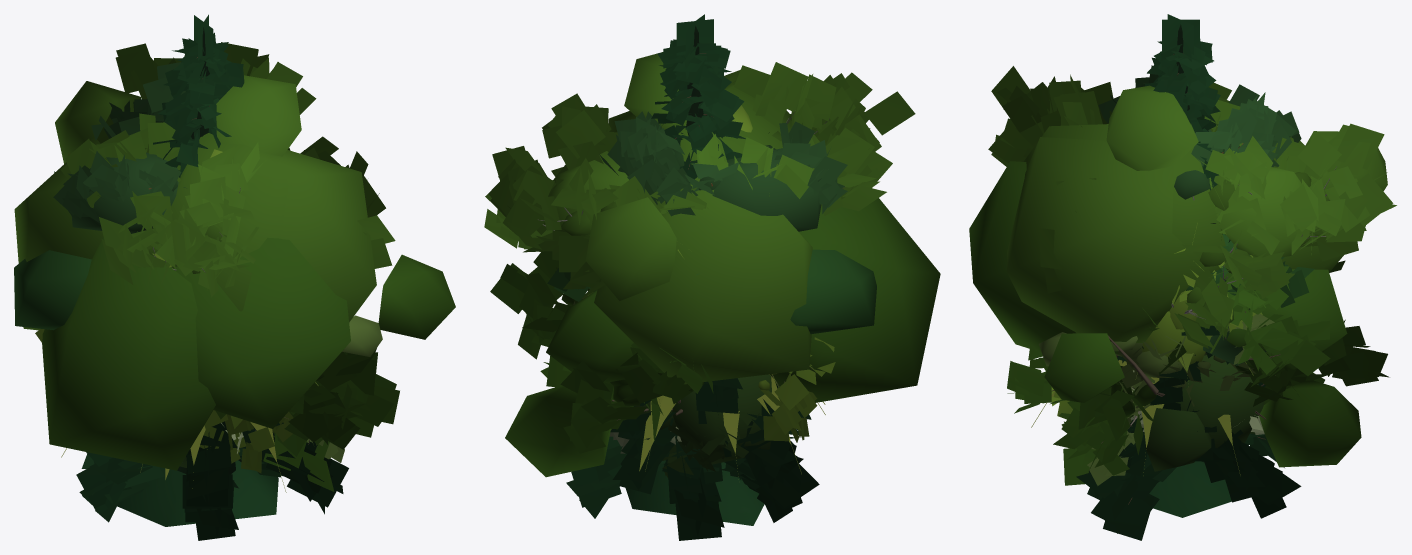
File: trees.glb
The picture shows the model from 3 angles, left to right: view 1: azimuth 30°, elevation 25°; view 2: azimuth 150°, elevation 25°; view 3: azimuth 270°, elevation 25°; orthographic projection. The views are drawn at different scales.
Parts seen in each view (by area): view 1: eiche_lod, buche_lod, buche, fichte, eiche, kiefer, pinie_lod, fichte_lod, kiefer_lod, birke, aleppo_lod; view 2: buche_lod, buche, eiche_lod, fichte, eiche, kiefer, pinie_lod, kiefer_lod, steineiche_lod, birke, fichte_lod, steineiche (+2 smaller); view 3: buche_lod, buche, eiche_lod, eiche, fichte, steineiche_lod, kiefer, fichte_lod, aleppo, birke_lod, aleppo_lod, kiefer_lod (+3 smaller).
Part boxes in pixels (x1,y1,x2,y2): eiche_lod: (42, 237, 455, 470); buche_lod: (14, 75, 376, 330); buche: (61, 42, 395, 297); fichte: (76, 14, 348, 540); eiche: (214, 348, 399, 491); kiefer: (53, 62, 186, 222); pinie_lod: (14, 250, 91, 330); fichte_lod: (117, 139, 278, 526); kiefer_lod: (71, 152, 178, 233); birke: (35, 153, 293, 473); aleppo_lod: (342, 315, 382, 356); buche_lod: (550, 52, 812, 384); buche: (484, 62, 915, 298); eiche_lod: (505, 113, 940, 477); fichte: (566, 14, 819, 540); eiche: (490, 251, 713, 453); kiefer: (599, 111, 847, 216); pinie_lod: (589, 249, 876, 334); kiefer_lod: (712, 148, 821, 231); steineiche_lod: (634, 374, 771, 464); birke: (587, 249, 835, 442); fichte_lod: (625, 158, 764, 525); steineiche: (662, 410, 759, 478); buche_lod: (1006, 85, 1387, 342); buche: (988, 66, 1396, 353); eiche_lod: (969, 161, 1361, 467); eiche: (1007, 260, 1389, 485); fichte: (1076, 14, 1301, 540); steineiche_lod: (1145, 355, 1264, 471); kiefer: (1098, 65, 1301, 242); fichte_lod: (1149, 461, 1231, 517); aleppo: (1087, 313, 1274, 485); birke_lod: (1142, 290, 1211, 364); aleppo_lod: (1039, 332, 1186, 388); kiefer_lod: (1174, 129, 1266, 365).
Size of the model in its own units: 20.66 by 24.71 by 20.29.
